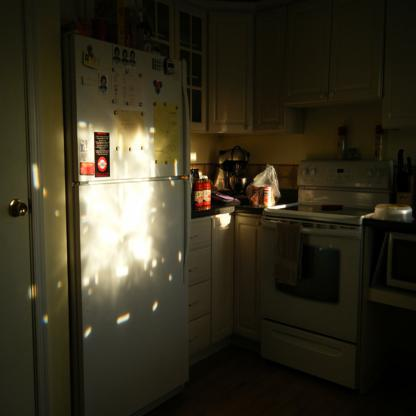door: (0, 0, 43, 415)
knob: (16, 200, 29, 220)
